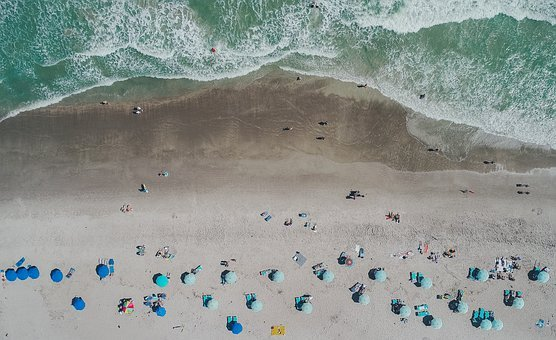beach: (9, 4, 553, 329)
